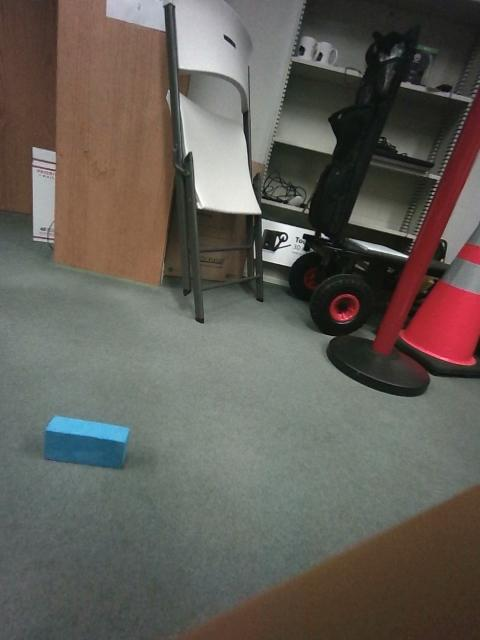block: (171, 276, 205, 312)
